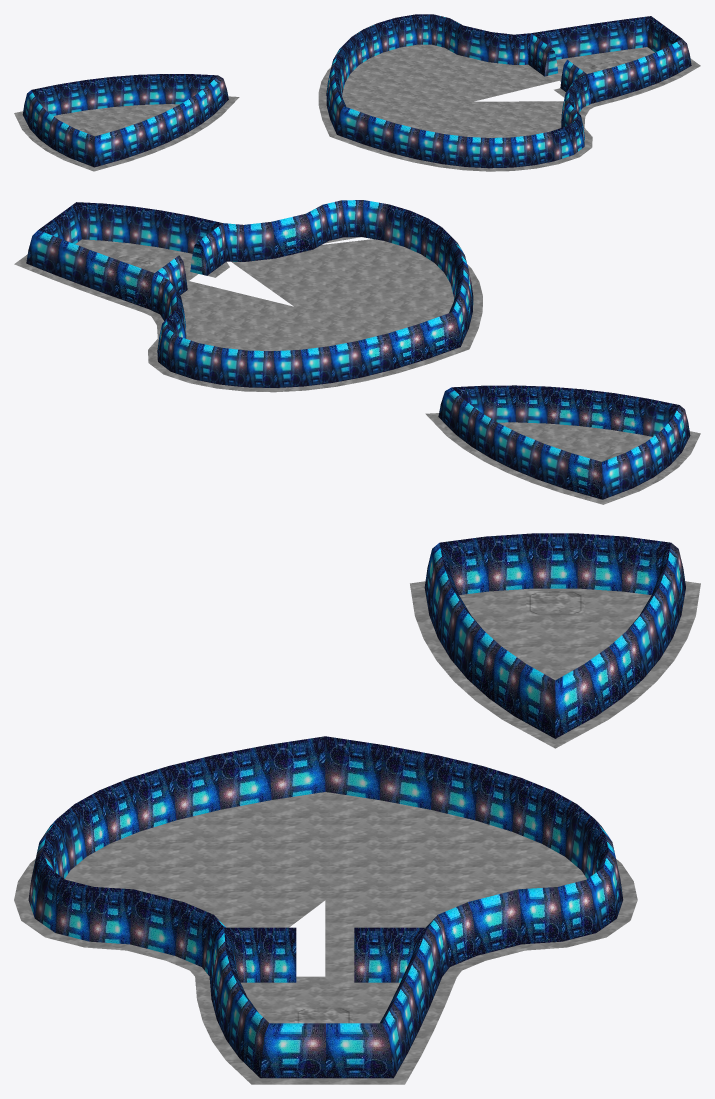
Rendered from level_9.gltf.
3 renders of one model, top to bottom at view 1: azimuth 30°, elevation 25°; view 2: azimuth 150°, elevation 25°; view 3: azimuth 270°, elevation 25°, orthographic. The views are drawn at different scales.
Visible parts, largest first — view 1: Mesh_29, Mesh_2, Mesh_35, Mesh_32, Mesh_1, Mesh_18, Mesh_7, Mesh_27, Mesh_3, Mesh_38, Mesh_4, Mesh_23 (+16 smaller); view 2: Mesh_27, Mesh_3, Mesh_32, Mesh_35, Mesh_7, Mesh_18, Mesh_1, Mesh_4, Mesh_29, Mesh_2, Mesh_38, Mesh_12 (+14 smaller); view 3: Mesh_2, Mesh_3, Mesh_27, Mesh_29, Mesh_38, Mesh_32, Mesh_35, Mesh_5, Mesh_16, Mesh_14, Mesh_25, Mesh_23 (+17 smaller).
Boxes of the visible parts, box(x1,y1,x2,y2) form: Mesh_29: box(337, 106, 554, 168); Mesh_2: box(342, 47, 472, 121); Mesh_35: box(32, 74, 217, 115); Mesh_32: box(94, 75, 228, 167); Mesh_1: box(400, 44, 558, 101); Mesh_18: box(531, 16, 650, 59); Mesh_7: box(587, 39, 691, 103); Mesh_27: box(326, 18, 399, 134); Mesh_3: box(391, 102, 519, 137); Mesh_38: box(22, 90, 94, 166); Mesh_4: box(473, 101, 563, 136); Mesh_23: box(457, 25, 530, 64); Mesh_27: box(194, 312, 460, 387); Mesh_3: box(294, 241, 453, 330); Mesh_32: box(452, 385, 679, 436); Mesh_35: box(438, 387, 602, 499); Mesh_7: box(76, 202, 222, 253); Mesh_18: box(26, 230, 154, 308); Mesh_1: box(182, 281, 293, 349); Mesh_4: box(231, 237, 383, 306); Mesh_29: box(384, 204, 473, 346); Mesh_2: box(236, 306, 394, 350); Mesh_38: box(602, 405, 690, 499); Mesh_12: box(223, 213, 312, 261); Mesh_2: box(325, 792, 586, 900); Mesh_3: box(65, 792, 325, 900); Mesh_27: box(325, 736, 616, 878); Mesh_29: box(33, 736, 325, 878); Mesh_38: box(440, 533, 670, 594); Mesh_32: box(424, 543, 555, 738); Mesh_35: box(555, 542, 685, 738); Mesh_5: box(469, 595, 641, 680); Mesh_16: box(260, 1023, 393, 1078); Mesh_14: box(28, 851, 133, 944); Mesh_25: box(518, 851, 623, 944); Mesh_23: box(426, 889, 521, 976).
Bounding box in the file's own units: 34.14 × 1.52 × 19.27.
Materials: 4 (4 with a texture image).
